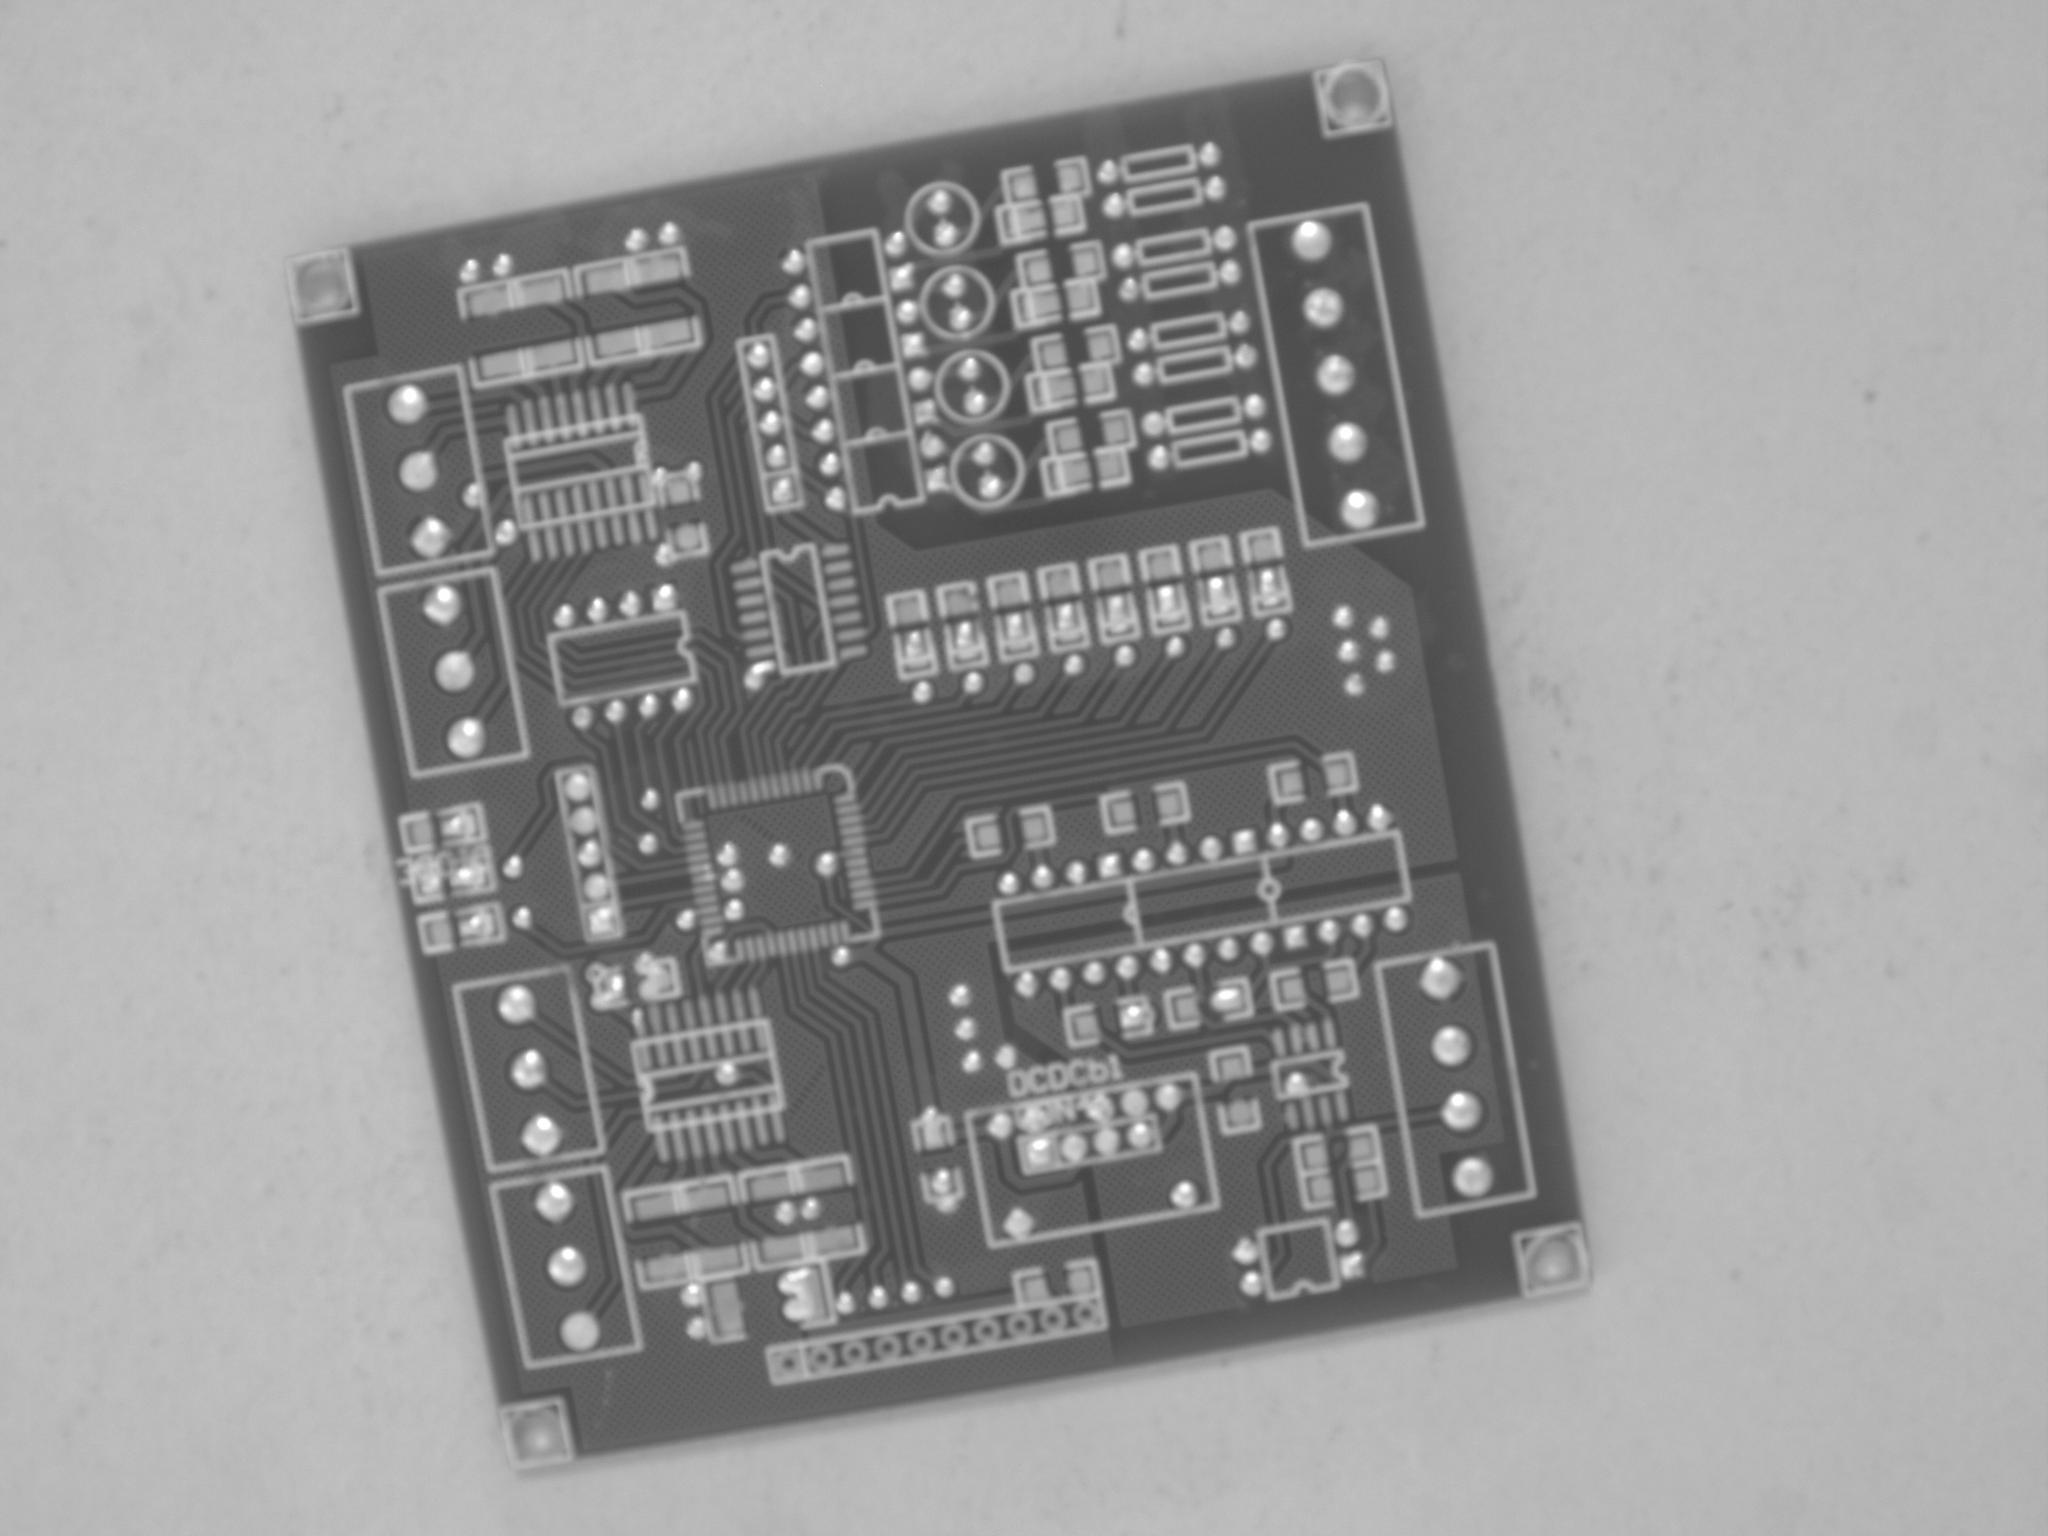moihan: (1419, 955, 1461, 999), (410, 515, 452, 558), (1451, 1155, 1493, 1197), (1292, 219, 1332, 261), (521, 1113, 561, 1155), (1443, 1091, 1482, 1134), (423, 582, 461, 626), (1314, 355, 1355, 395), (434, 652, 474, 692), (387, 384, 427, 424), (1340, 489, 1379, 531), (535, 1181, 574, 1223), (1327, 423, 1367, 461), (1303, 289, 1343, 328), (1432, 1026, 1471, 1066), (447, 718, 485, 758), (548, 1247, 587, 1288), (400, 450, 437, 492), (510, 1049, 547, 1091), (561, 1312, 598, 1352), (497, 984, 534, 1025), (1022, 1137, 1055, 1173), (587, 907, 619, 939), (1003, 1208, 1034, 1241), (1103, 594, 1129, 631), (743, 662, 774, 692), (1053, 602, 1077, 641), (900, 631, 929, 663), (1209, 989, 1247, 1013), (563, 771, 592, 802), (932, 218, 963, 247), (953, 621, 977, 655), (1156, 586, 1179, 621), (751, 376, 780, 403), (780, 1296, 811, 1321), (440, 812, 472, 836), (1206, 578, 1227, 615), (1366, 803, 1393, 831), (569, 807, 597, 834), (1118, 1004, 1147, 1029), (926, 190, 956, 215), (1172, 1181, 1198, 1208), (1156, 1083, 1182, 1110), (769, 478, 795, 505), (901, 331, 927, 358), (1021, 1105, 1048, 1131), (1340, 1250, 1364, 1279), (651, 582, 676, 611), (1063, 1134, 1087, 1163), (950, 303, 974, 332), (448, 865, 477, 889), (780, 1271, 811, 1294), (1384, 907, 1409, 933), (1232, 829, 1258, 855), (1121, 1091, 1147, 1117), (584, 874, 610, 900), (800, 352, 826, 378), (671, 687, 695, 715), (890, 265, 914, 292), (913, 399, 937, 426), (456, 913, 484, 937), (816, 850, 839, 879), (577, 839, 600, 868), (795, 315, 818, 344), (1182, 942, 1206, 968), (1232, 1238, 1256, 1263), (1095, 1129, 1119, 1155), (989, 1113, 1013, 1139), (1111, 244, 1135, 269), (919, 432, 943, 458), (1005, 613, 1024, 645), (1335, 1220, 1358, 1247), (813, 418, 835, 445), (972, 444, 1001, 465), (1284, 925, 1308, 949), (1116, 955, 1140, 979), (1082, 962, 1106, 986), (1142, 411, 1166, 436), (908, 366, 932, 390), (1367, 615, 1390, 641), (1251, 931, 1274, 957), (1151, 949, 1174, 975), (1016, 973, 1039, 999), (619, 591, 642, 616), (774, 1200, 797, 1226), (805, 384, 827, 410), (782, 250, 805, 276), (493, 520, 516, 545), (626, 227, 648, 253), (1147, 445, 1169, 471), (961, 390, 987, 413), (884, 232, 906, 258), (601, 975, 624, 1000), (1090, 1097, 1113, 1123), (1268, 821, 1288, 849), (1032, 863, 1053, 891), (826, 484, 847, 511), (1103, 192, 1124, 219), (980, 470, 1001, 497), (1263, 570, 1279, 605), (926, 465, 945, 494), (1343, 673, 1366, 697), (963, 671, 985, 695), (1351, 915, 1374, 939), (1300, 818, 1322, 842), (1200, 837, 1222, 862), (1132, 847, 1155, 871), (721, 868, 743, 892), (672, 908, 697, 931), (605, 700, 627, 724), (714, 1062, 739, 1084), (789, 284, 811, 308), (658, 221, 681, 245), (682, 460, 705, 484), (1214, 227, 1237, 252), (956, 358, 980, 381), (764, 444, 787, 468), (1335, 810, 1356, 836), (1166, 841, 1187, 866), (1100, 854, 1121, 879), (1066, 860, 1087, 886), (458, 258, 479, 284), (1245, 394, 1266, 419), (1235, 344, 1256, 369), (1229, 310, 1250, 336), (1205, 176, 1226, 202), (943, 278, 969, 298), (639, 692, 658, 720), (1242, 1270, 1261, 1297), (463, 481, 481, 510), (760, 410, 777, 439), (1013, 663, 1035, 686), (955, 1018, 977, 1041), (571, 707, 593, 729), (681, 1283, 703, 1305), (1198, 144, 1221, 166), (1288, 1071, 1311, 1094), (1332, 605, 1353, 629), (1266, 618, 1287, 642), (1317, 920, 1338, 944), (1218, 937, 1238, 962), (1051, 968, 1072, 992), (769, 844, 790, 868), (553, 603, 574, 628), (511, 905, 532, 929), (503, 855, 524, 879), (819, 452, 840, 476), (748, 342, 769, 366), (493, 253, 514, 278), (1250, 429, 1271, 453), (997, 1044, 1016, 1070), (587, 597, 606, 623), (1130, 1123, 1150, 1149), (1338, 641, 1359, 663), (1216, 628, 1237, 650), (1114, 645, 1135, 668), (1063, 655, 1085, 676), (913, 681, 934, 703), (948, 984, 969, 1007), (718, 844, 739, 866), (637, 834, 660, 855), (800, 1197, 821, 1220), (1221, 261, 1242, 284), (903, 1279, 922, 1304), (869, 1286, 889, 1310), (1119, 279, 1138, 303), (1098, 160, 1118, 184), (932, 1167, 950, 1192), (998, 873, 1019, 894), (1376, 650, 1395, 673), (1166, 636, 1185, 658), (706, 942, 729, 962), (935, 1276, 955, 1299), (687, 1317, 706, 1339), (1134, 363, 1153, 386), (963, 1050, 980, 1075), (640, 787, 658, 812), (897, 300, 914, 324), (832, 945, 851, 966), (724, 900, 743, 921), (837, 1292, 855, 1315), (1129, 329, 1147, 352), (658, 541, 672, 566), (650, 466, 668, 484), (1313, 831, 1313, 831)
